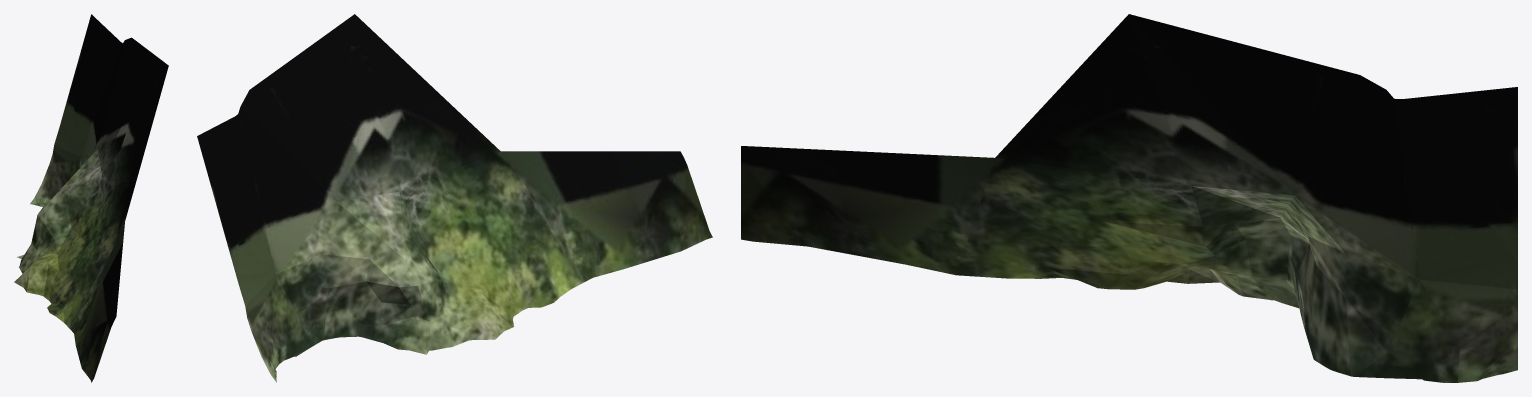
3 views of the same model, side by side, from view 1: azimuth 30°, elevation 25°; view 2: azimuth 150°, elevation 25°; view 3: azimuth 270°, elevation 25° (orthographic). The views are drawn at different scales.
Bounding box in the file's own units: 13.6 × 13.2 × 23.6.
Materials: 1 (1 with a texture image).
